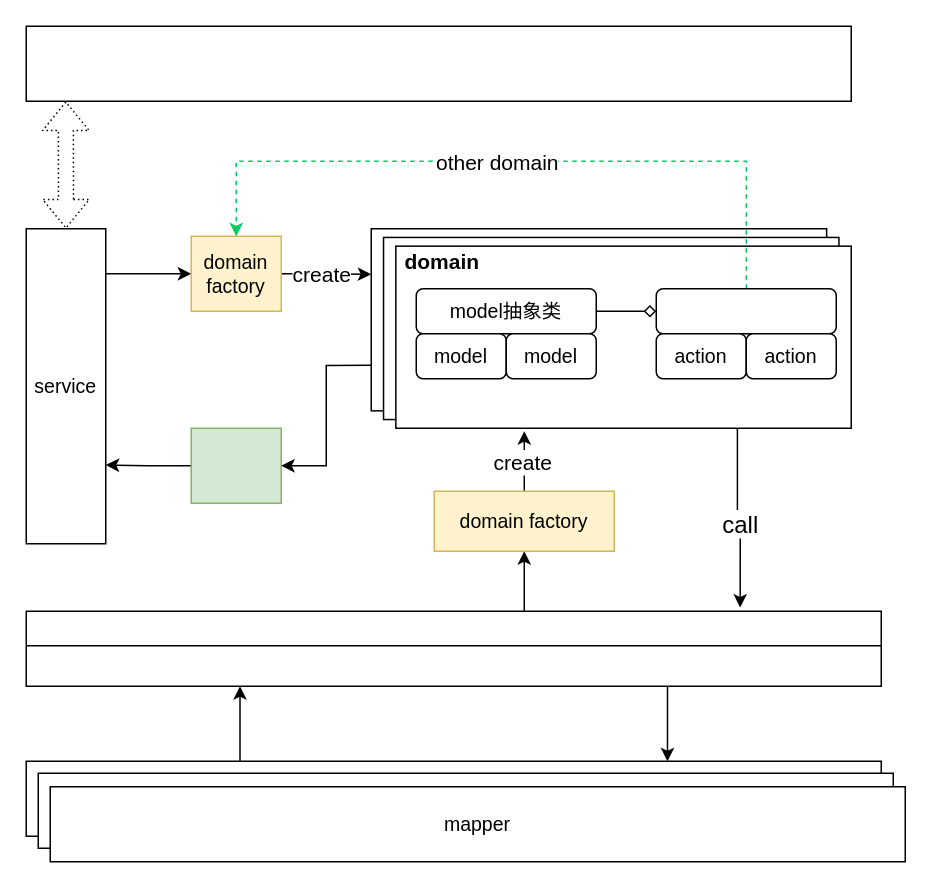
The diagram is 932 pixels wide and 888 high, and some of its shapes have lost their labels. Each missing label, with the box of its shape:
controller: (25, 25, 851, 101)
domain convert: (190, 427, 281, 503)
IAction: (655, 287, 836, 334)
IManager: (25, 610, 881, 686)
